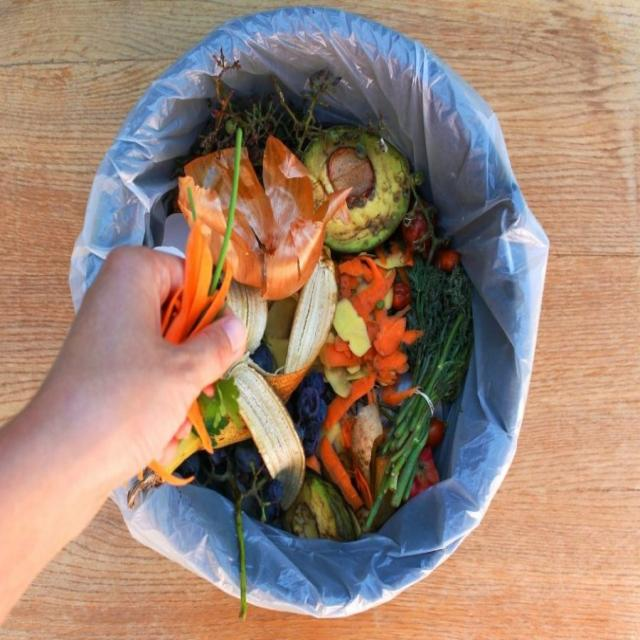Food -Biodegradable-: (158, 116, 467, 532)
